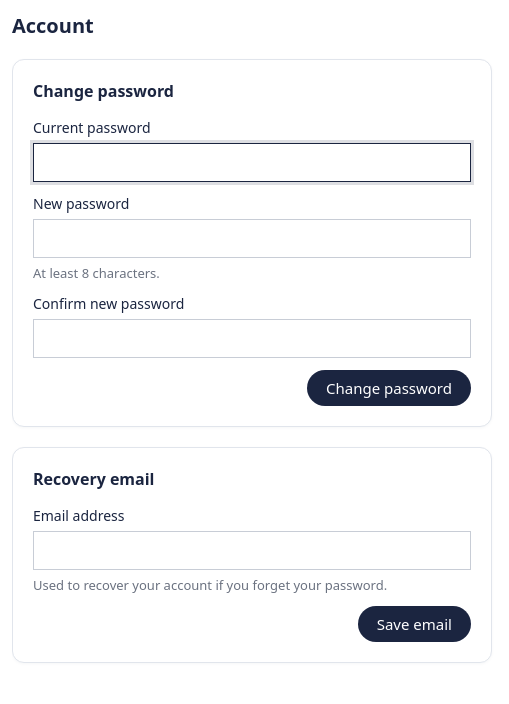
Test case: AccountPage — change password › renders "Current password is incorrect" inline on the current field for a 400
Type "wrongpass" into the password field labelled "Current password" at (252, 162), box left=33, top=143, right=471, bottom=182
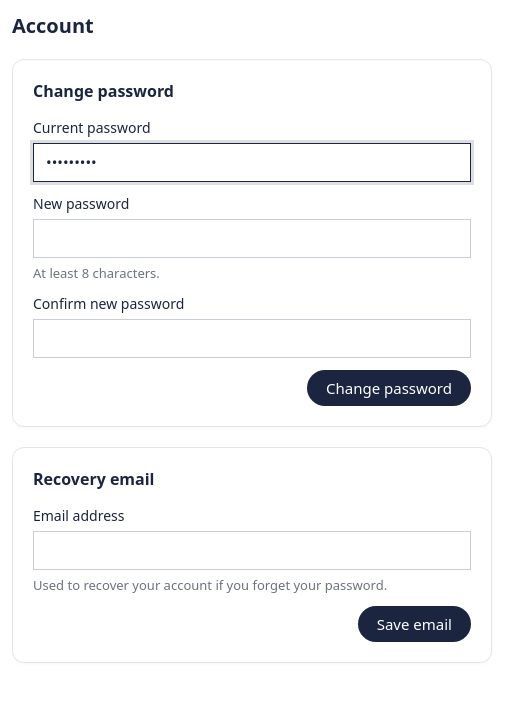
Type "newpass12" into the password field labelled "New password" at (252, 238), box left=33, top=219, right=471, bottom=258
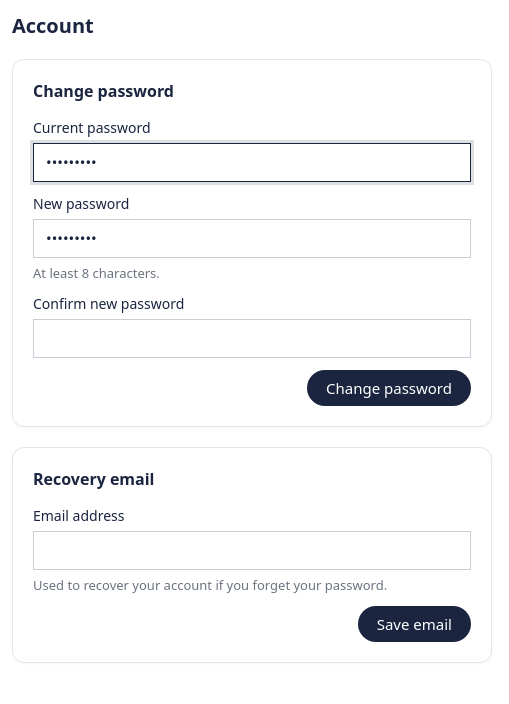
Type "newpass12" into the password field labelled "Confirm new password" at (252, 338), box left=33, top=319, right=471, bottom=358
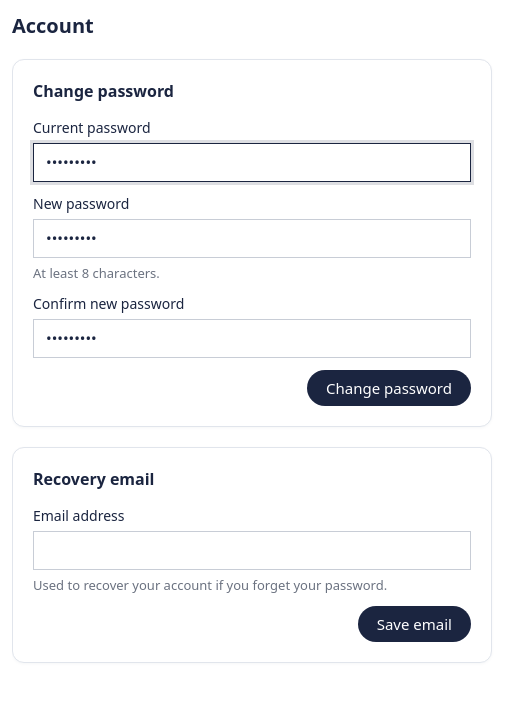
Click the button "Change password" at (389, 388), box left=307, top=370, right=471, bottom=406
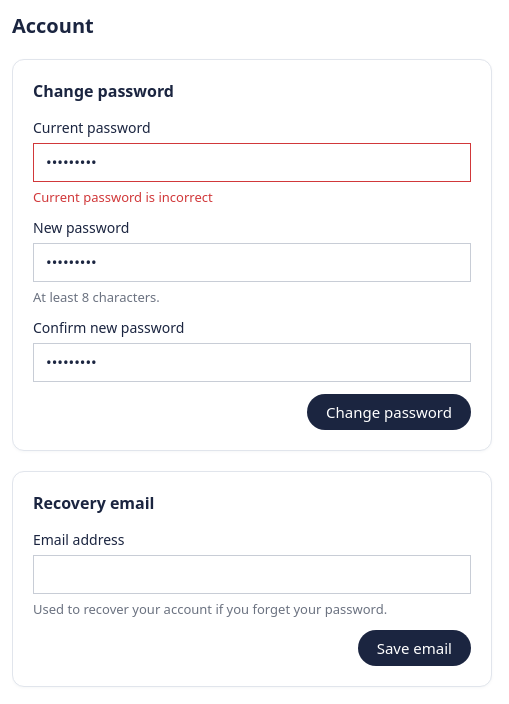
Expected: the text "Current password is incorrect" is shown, left=33, top=188, right=213, bottom=206
